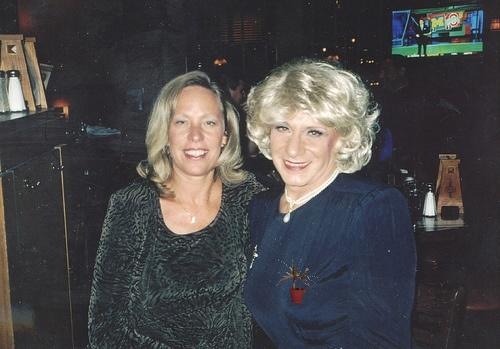tampered: (277, 260, 319, 303)
